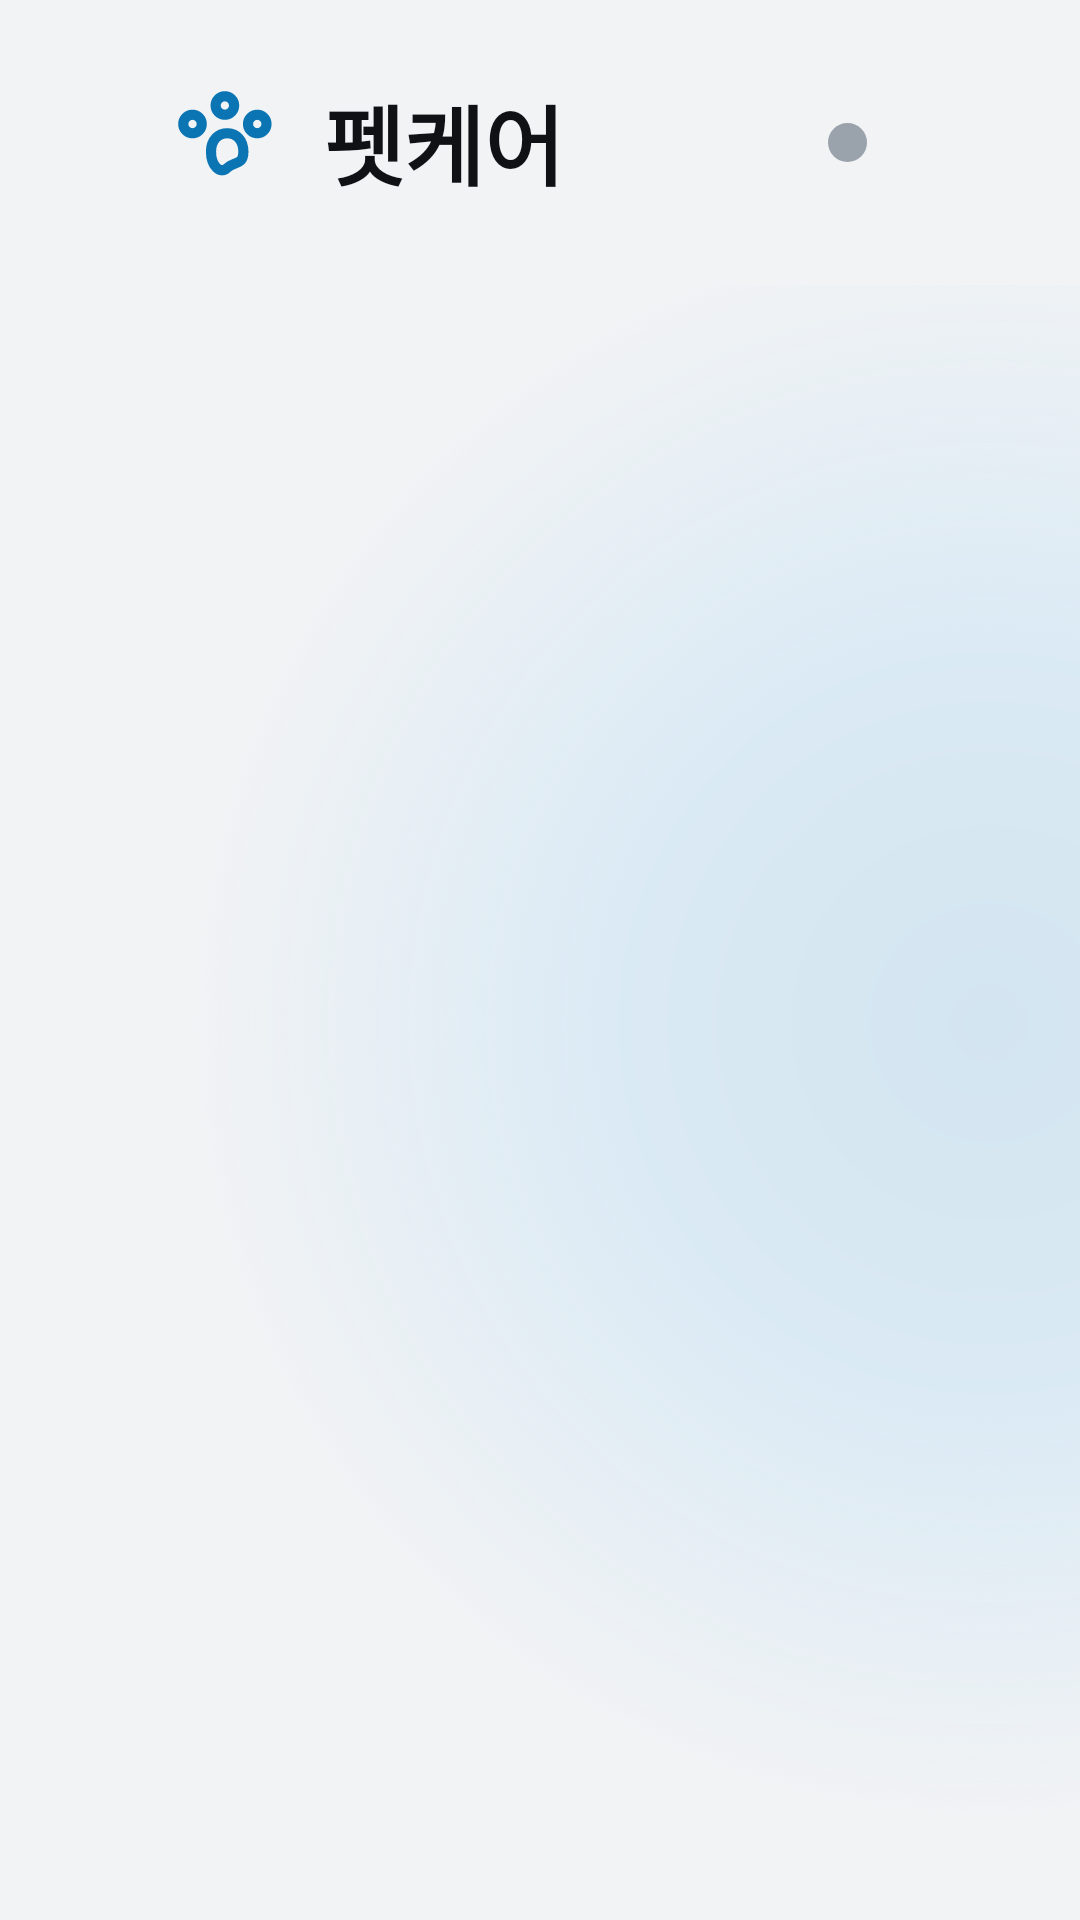

Screen size 1080 x 1920. Icon name, then its box in pixels as (x1, y1, x2, y2):
paw: (178, 91, 272, 176)
